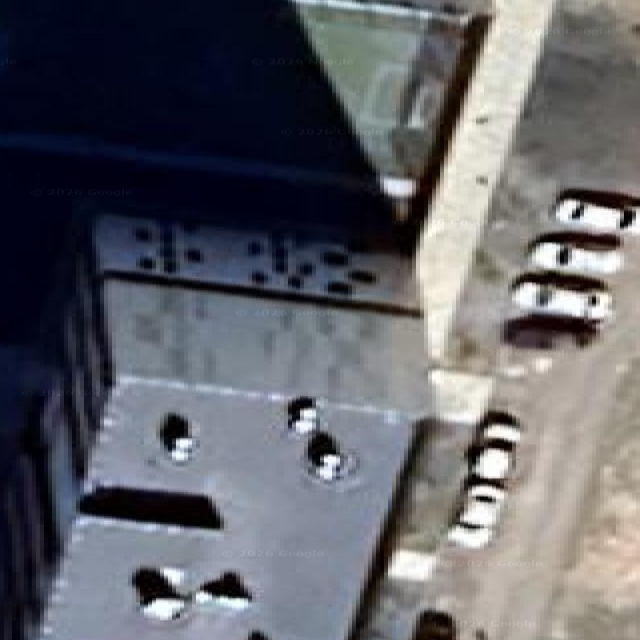car: (511, 277, 612, 322), (448, 482, 505, 548), (469, 419, 520, 484), (529, 240, 622, 275), (552, 198, 639, 233), (411, 609, 456, 639)
